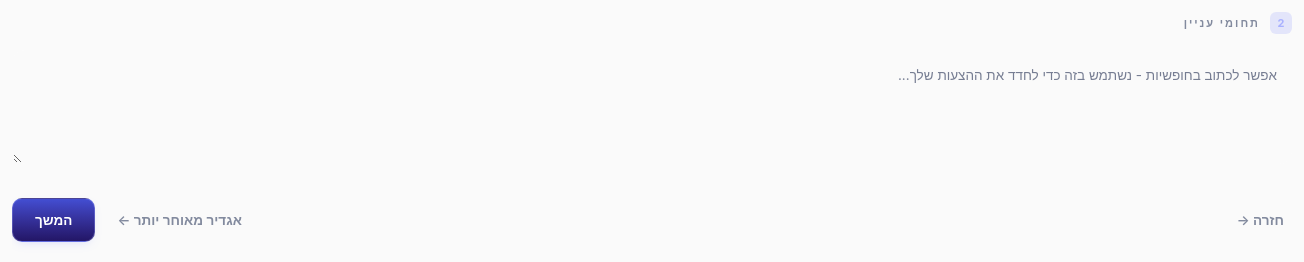
Scenario: InterestsStep - unhappy path / edge cases › shows a save error and does not advance when updateMyProfile fails
The image size is (1304, 262).
Type "טכנולוגיה חדשה" into the text box with placeholder "אפשר לכתוב בחופשיות - נשתמש בזה כדי לחדד את ההצעות שלך..." at (652, 107), box [12,50,1292,164]
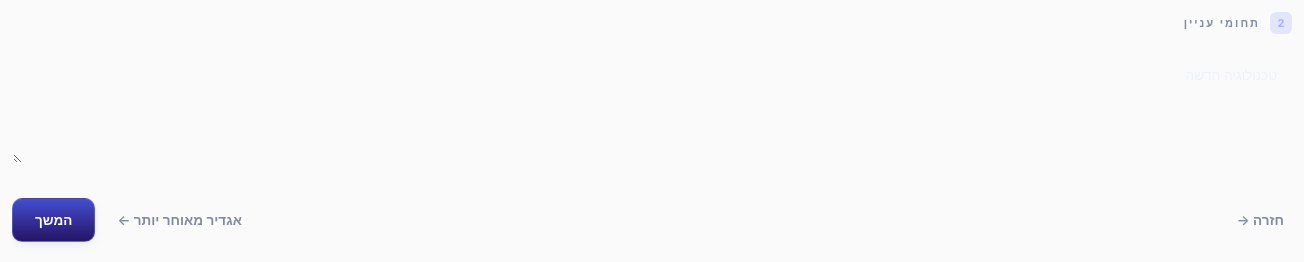
Click the button "המשך" at (54, 220), box [12,198,96,242]
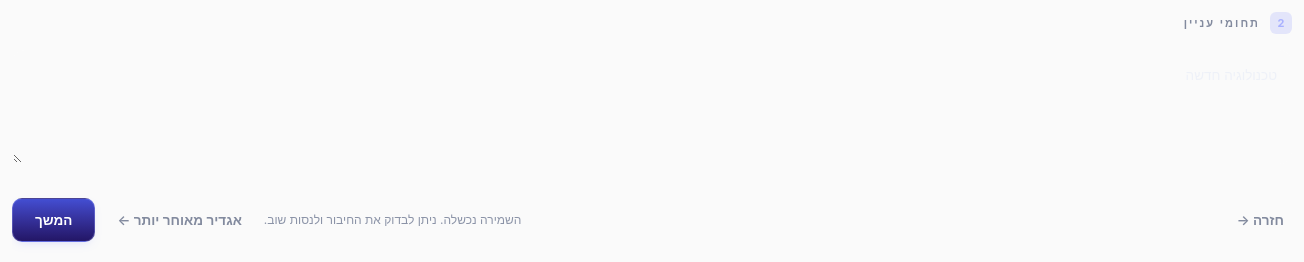
Expected: the text "השמירה נכשלה" is shown, [264,212,522,227]
